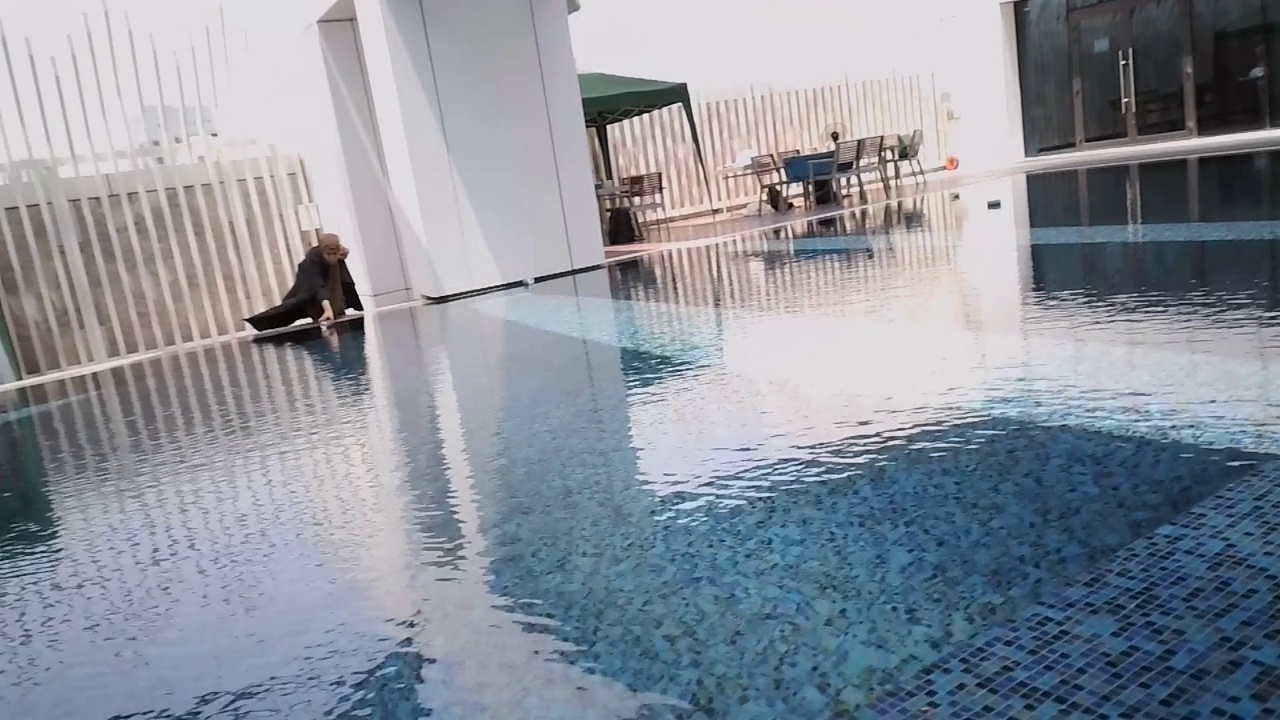debris: (982, 198, 1004, 212), (318, 319, 335, 333), (520, 274, 536, 287), (948, 191, 960, 202)
